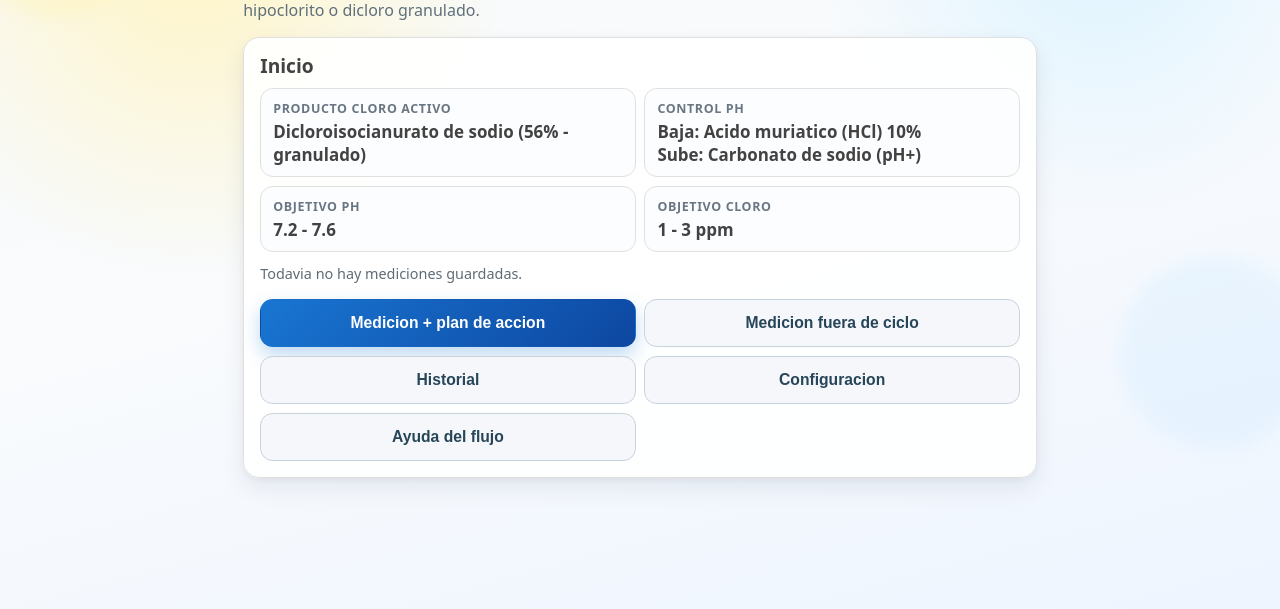
Test: App flows › permite habilitar ciclo intensivo desde configuracion
Expected: the heading "Inicio" is shown, [260, 52, 314, 79]
Click the button "Configuracion": [832, 380] box [644, 356, 1020, 404]
(page scrolled)
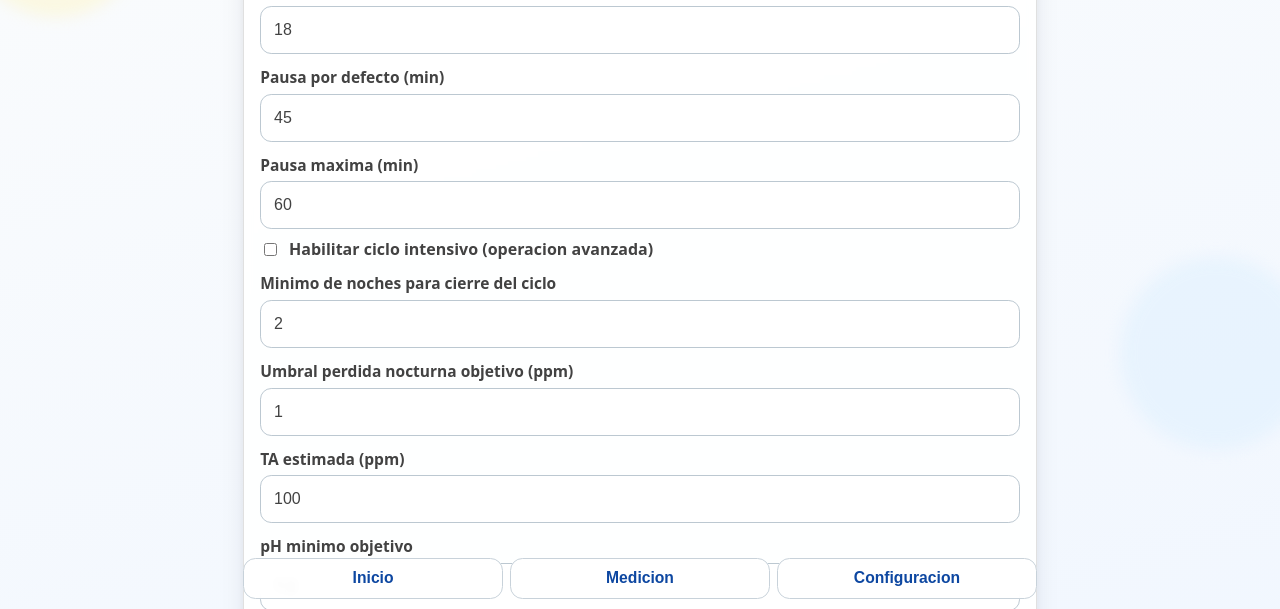
Click the checkbox labelled "Habilitar ciclo intensivo (operacion avanzada)": [271, 250] box [264, 243, 277, 256]
(page scrolled)
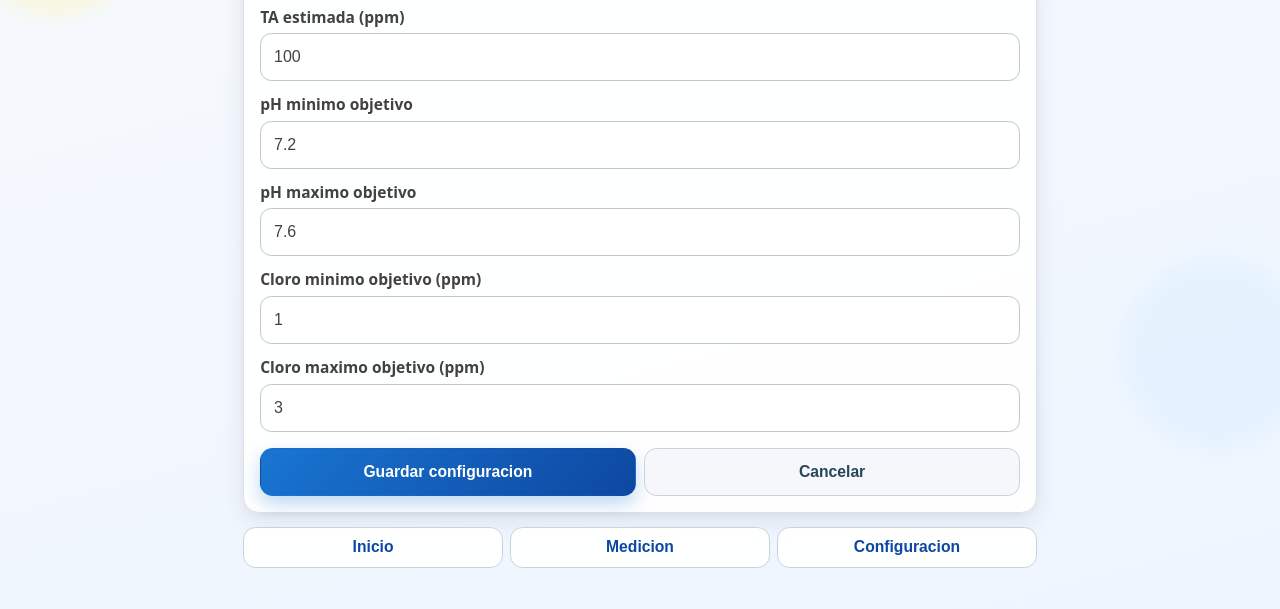
Click the button "Guardar configuracion": [448, 472] box [260, 448, 636, 496]
(page scrolled)
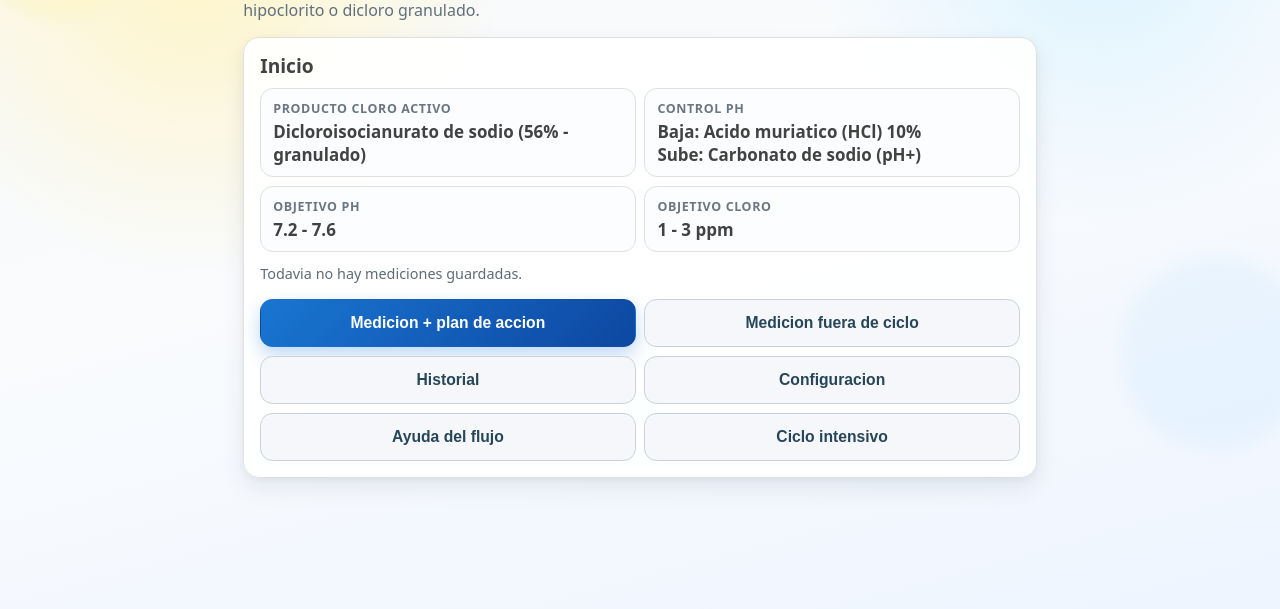
Now the button "Ciclo intensivo" is shown, box [644, 413, 1020, 461]
Now the heading "Inicio" is shown, box [260, 52, 314, 79]
